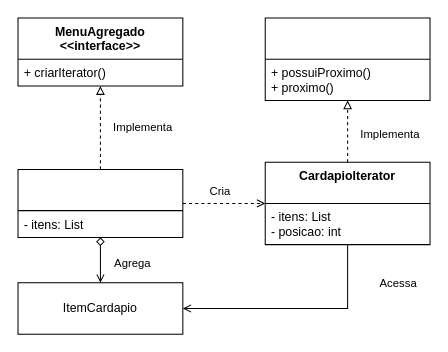
Image size: 448x352. Some labels were removed from this diagram. The box of each missing label's shape, as (x1, y1, x2, y2) in pixels:
CardapioHamburgueria: (17, 168, 183, 237)
MenuIterator <<interface>>: (264, 17, 430, 100)
